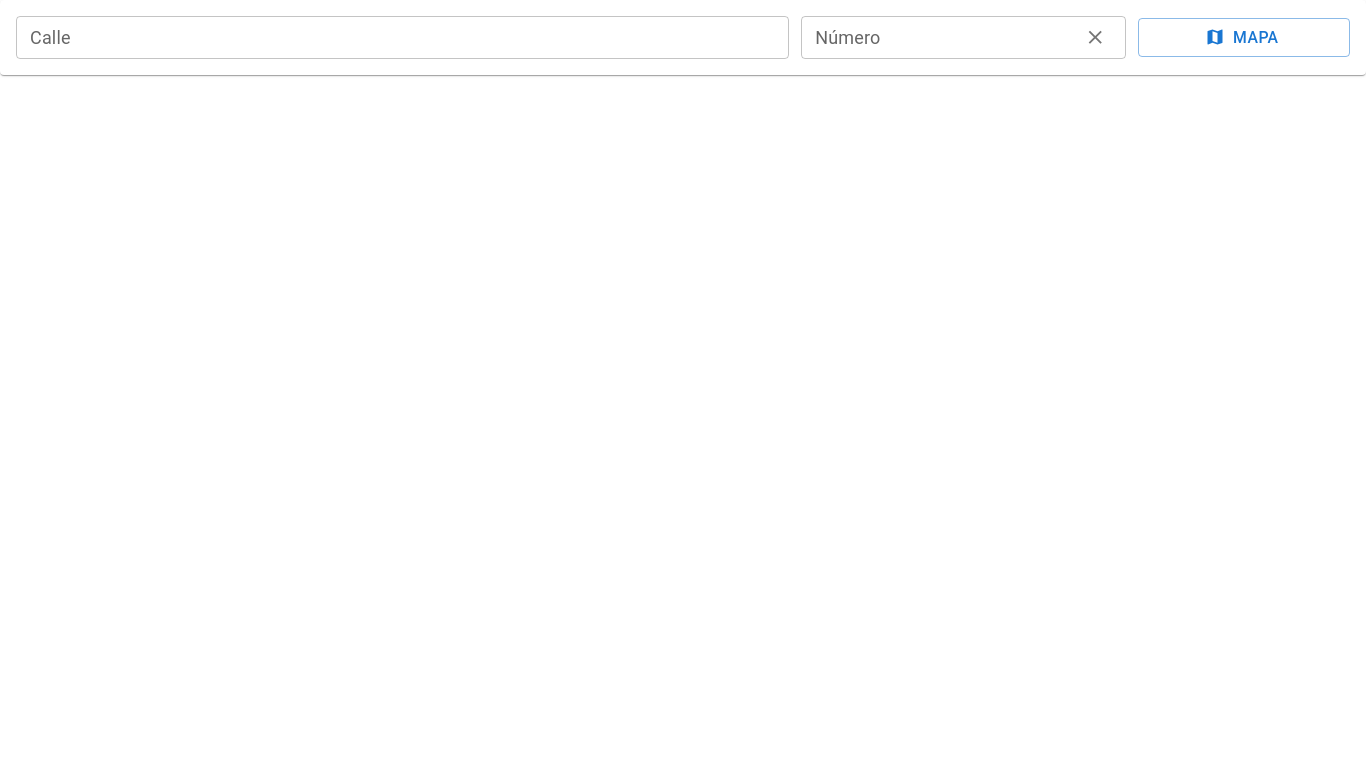
AddressSelector › abre el diálogo del mapa
Click the button "Mapa". click: (1244, 38)
box: [1138, 18, 1350, 57]
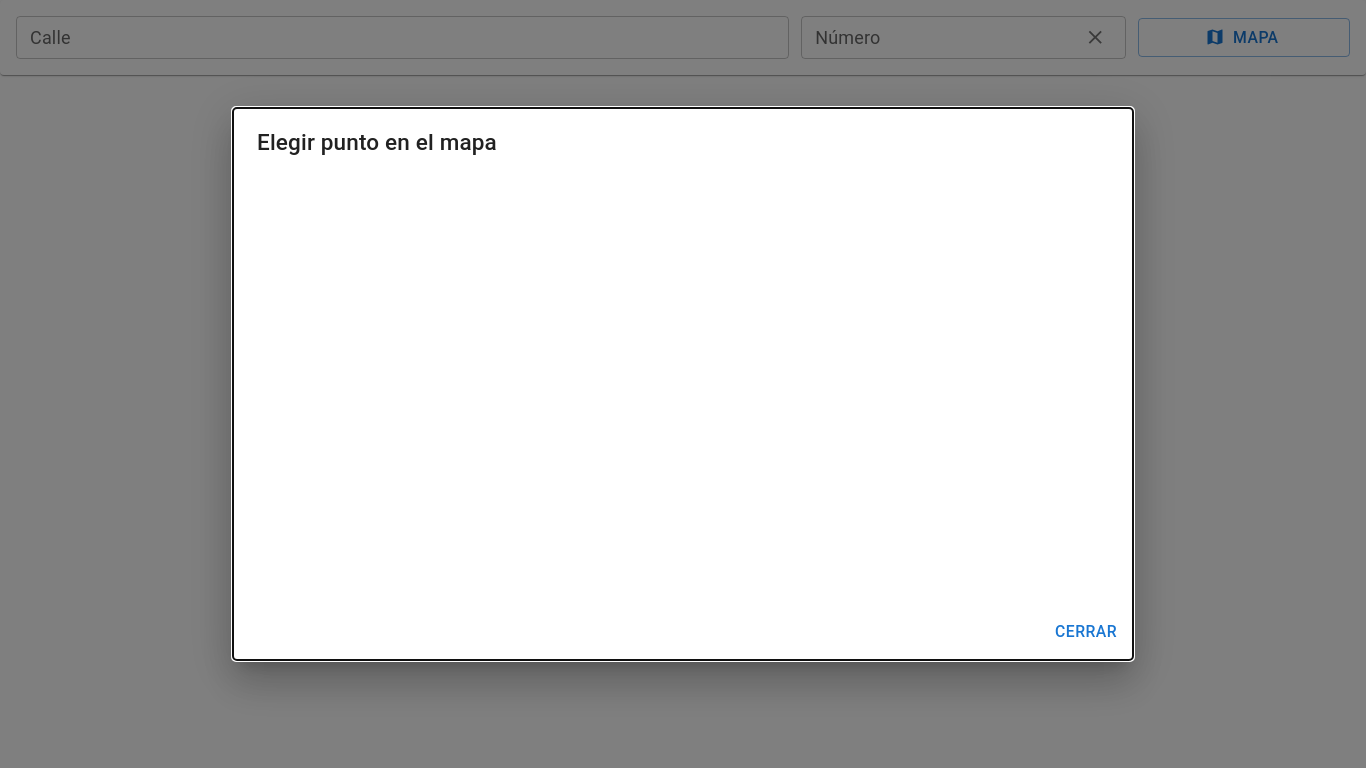
Expected: the heading "Elegir punto en el mapa" is shown, [257, 129, 497, 155]
